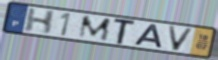1: (59, 13, 72, 38)
A: (132, 23, 164, 50)
H: (22, 7, 58, 35)
M: (77, 15, 113, 43)
T: (112, 18, 138, 46)
V: (167, 25, 196, 53)
